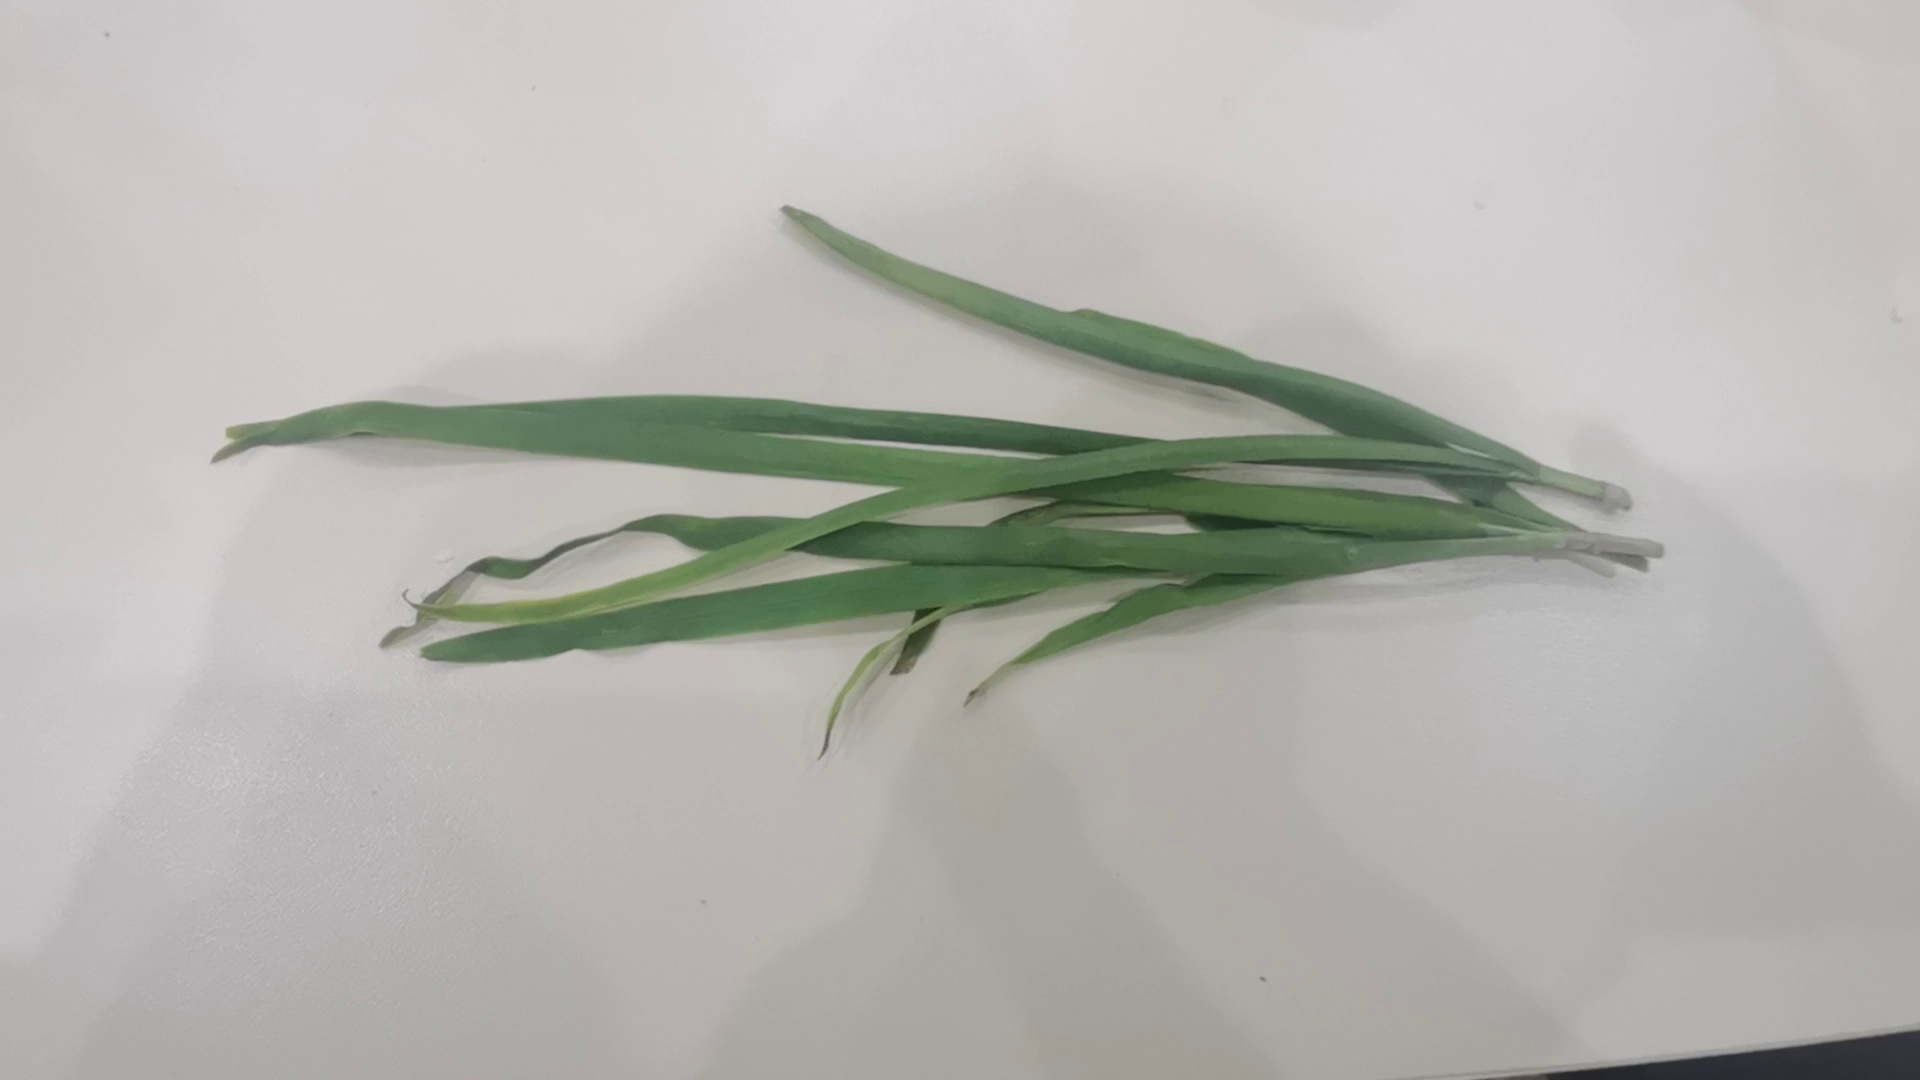chives: (162, 185, 1676, 738)
